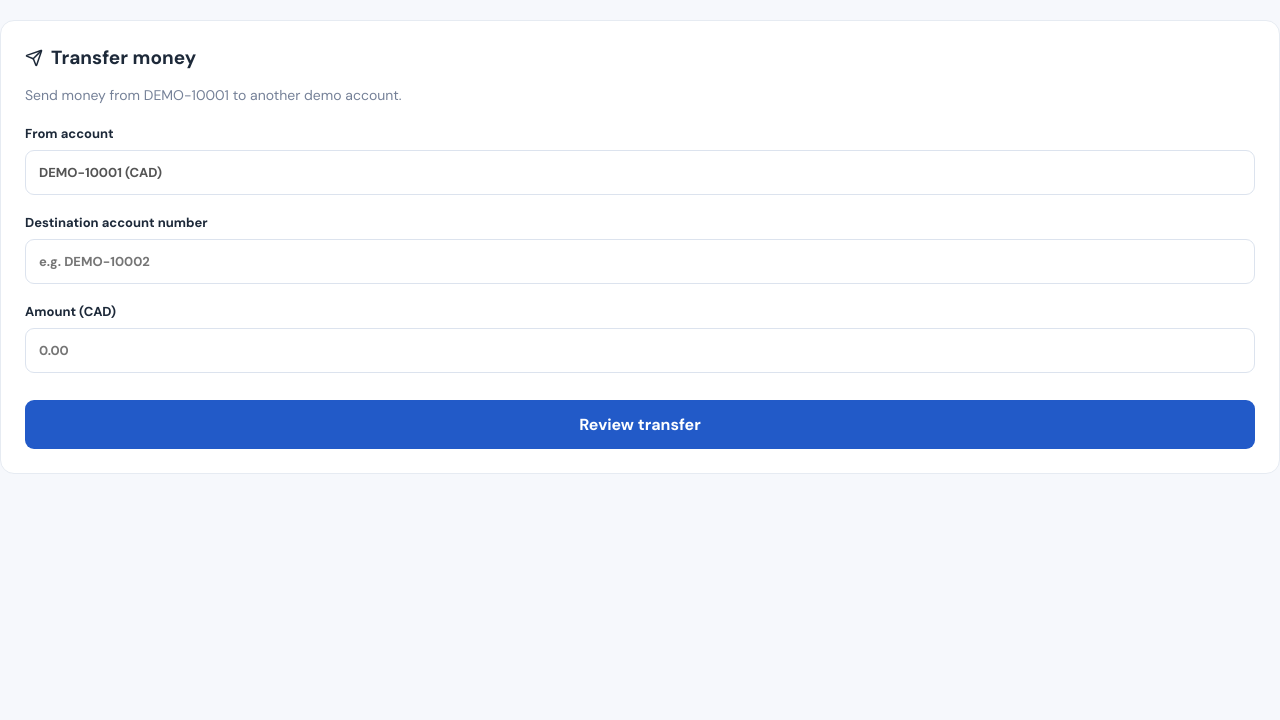
Test: TransferForm › refuses more than the available balance before asking the server
Step 1. Type "DEMO-10002" into the field labelled "Destination account number" → {"x": 640, "y": 262}, box [25,239,1255,284]
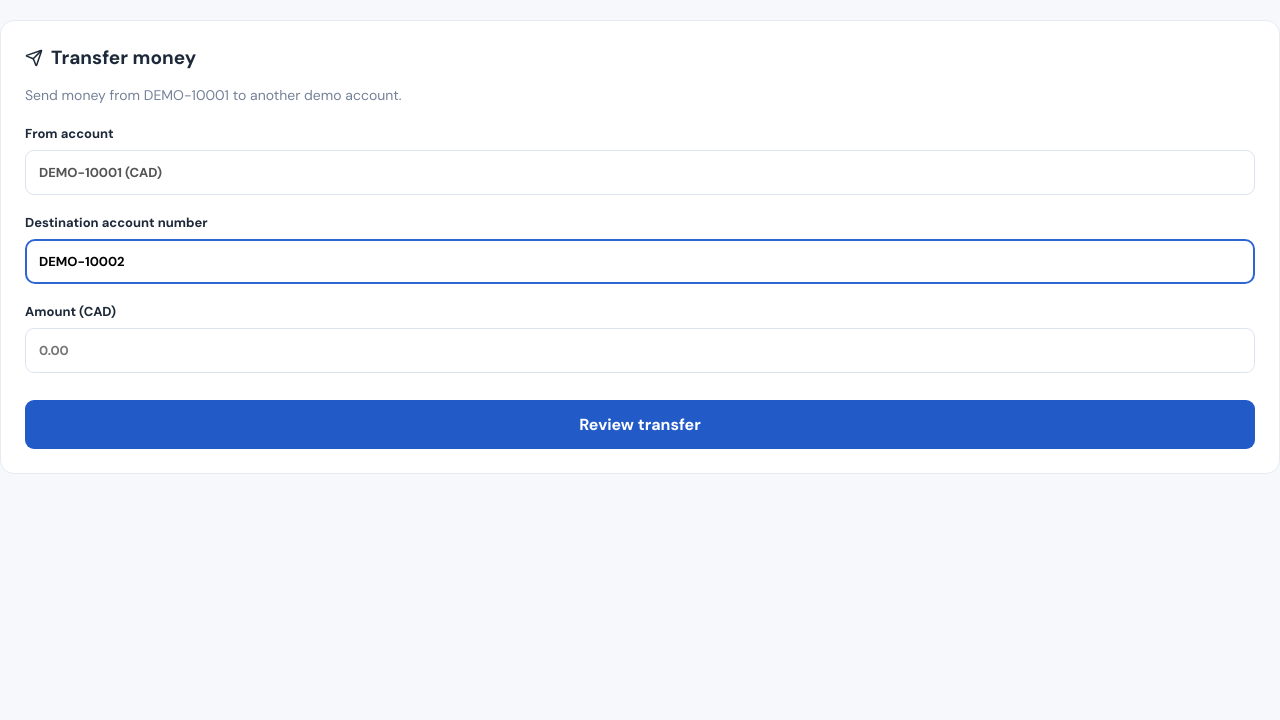
Step 2. Type "5000" into the number field labelled "Amount (CAD)" → {"x": 640, "y": 351}, box [25,328,1255,373]
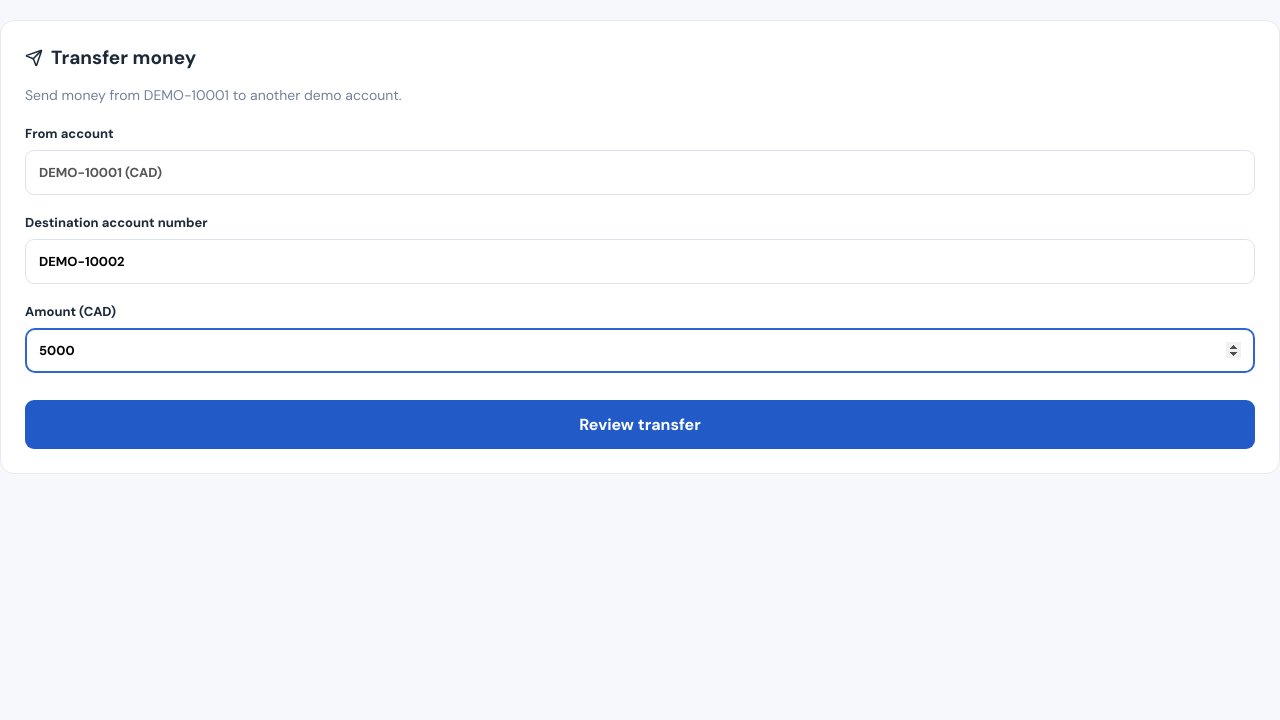
Step 3. Click the button "Review transfer" → {"x": 640, "y": 425}, box [25,400,1255,449]
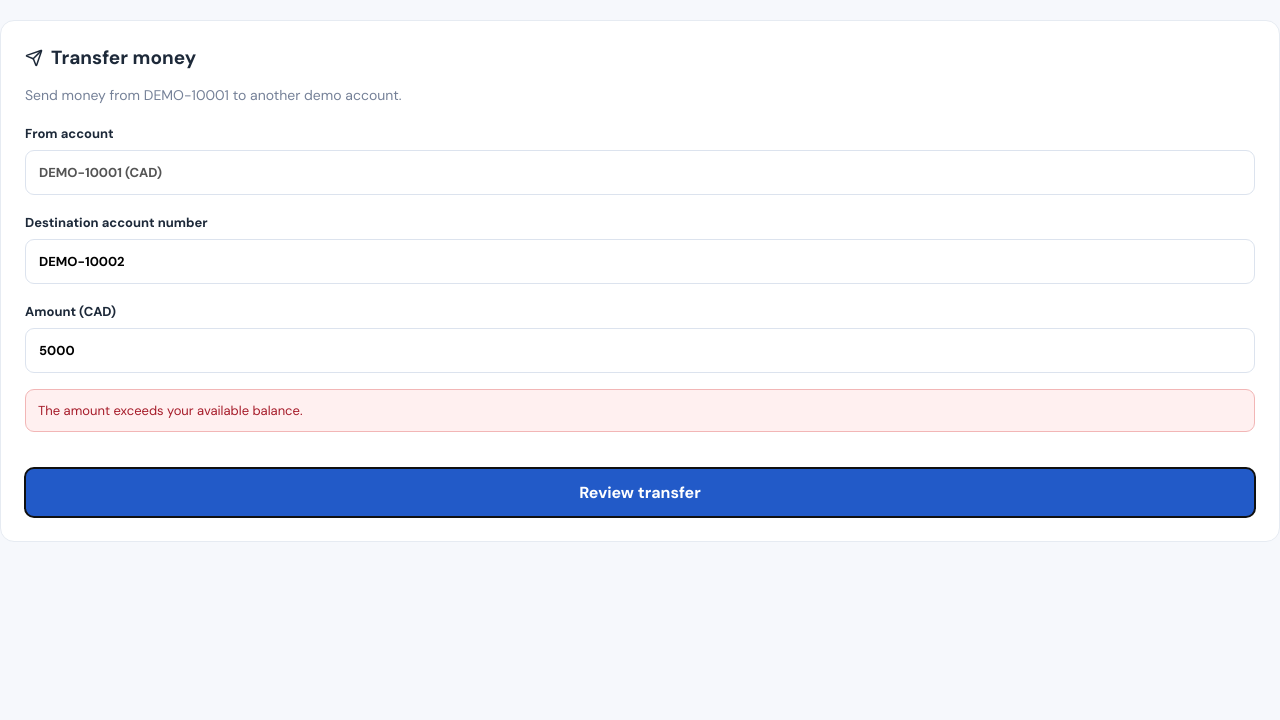
Result: the message shows "exceeds your available balance" at [38,402,302,419]
